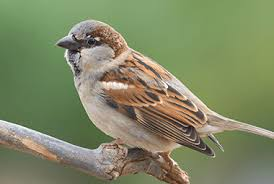hsparrow: (52, 15, 274, 168)
